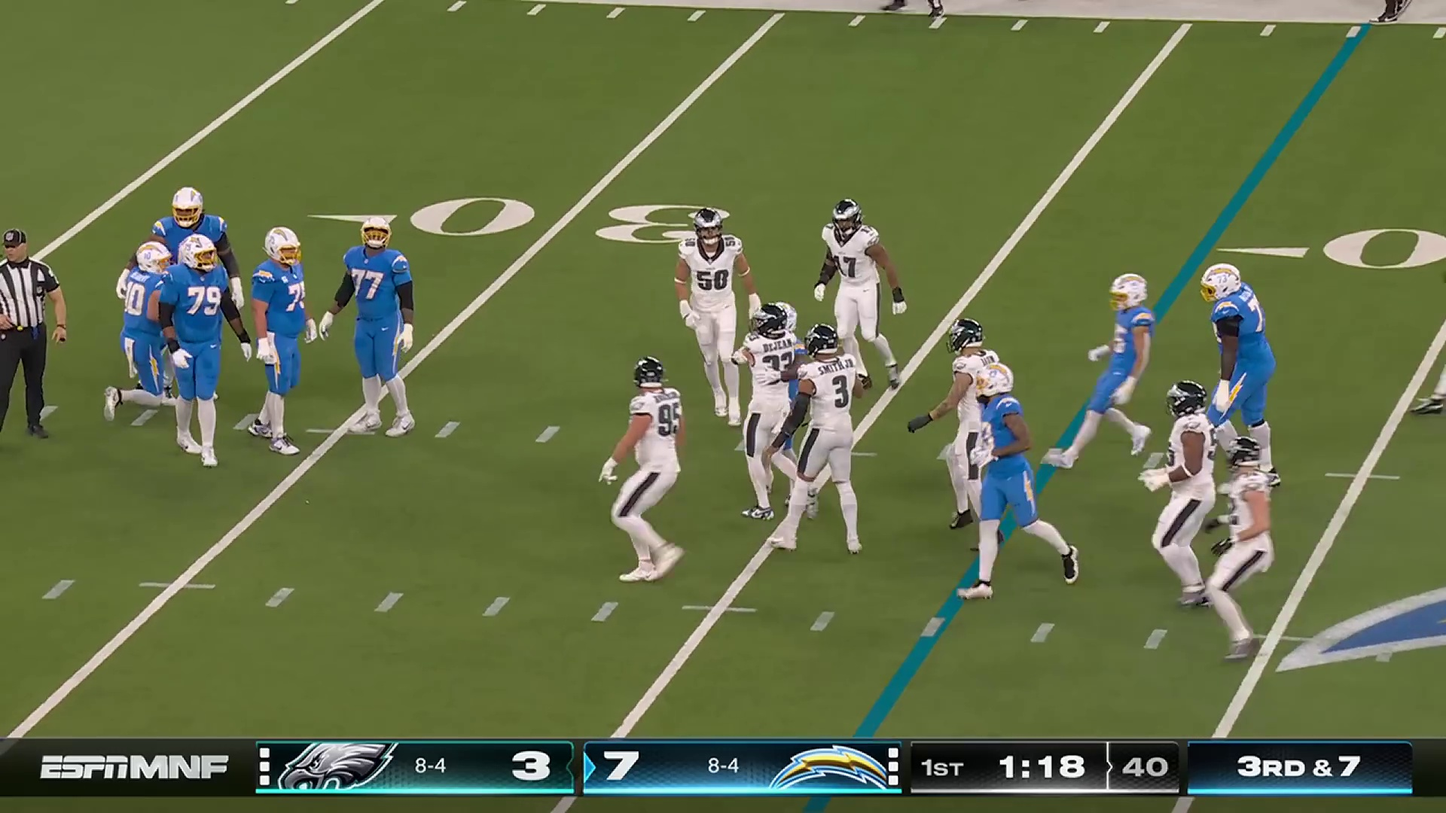player: (966, 363, 1086, 624), (775, 316, 889, 568), (1180, 248, 1292, 488), (600, 354, 697, 595), (334, 218, 433, 444), (809, 201, 919, 394), (934, 315, 1022, 554), (1055, 281, 1149, 491), (154, 187, 239, 388), (1211, 412, 1275, 670), (245, 224, 313, 459), (166, 240, 231, 465), (104, 238, 171, 455), (733, 294, 790, 543), (1157, 375, 1213, 607), (675, 223, 745, 408), (749, 305, 792, 523)
